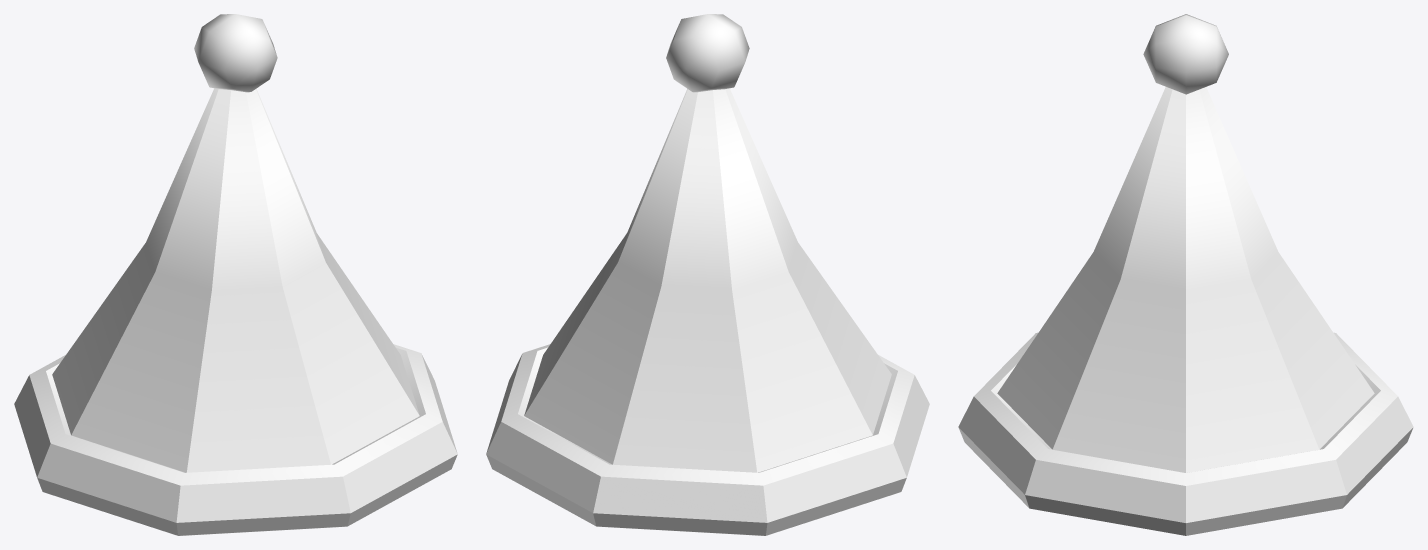
The model's file is santa hat.fbx.
3 views of the same model, side by side, from view 1: azimuth 30°, elevation 25°; view 2: azimuth 150°, elevation 25°; view 3: azimuth 270°, elevation 25° (orthographic).
Parts seen in each view (by area): view 1: Cylinder008; view 2: Cylinder008; view 3: Cylinder008.
Boxes of the visible parts, x1,y1,x2,y2 form: Cylinder008: [14, 14, 457, 535]; Cylinder008: [486, 14, 929, 535]; Cylinder008: [958, 14, 1413, 535].
Bounding box in the file's own units: 112 × 116 × 112.
